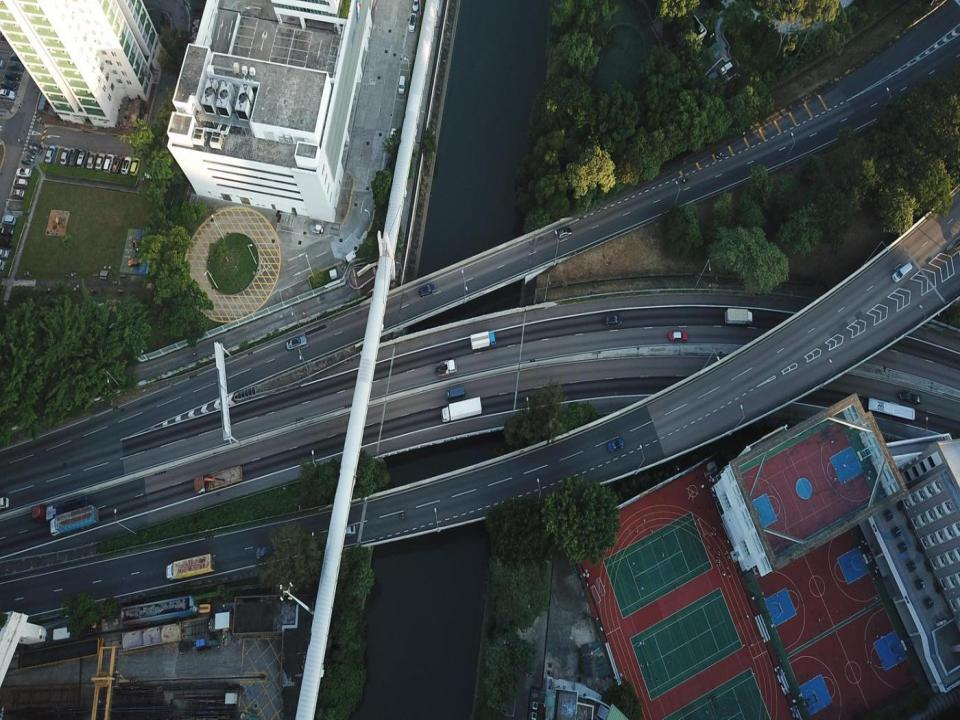bus: (868, 398, 916, 423)
car: (256, 544, 283, 560), (899, 388, 922, 405), (286, 335, 307, 350), (418, 282, 436, 297), (607, 439, 624, 453), (112, 154, 124, 173), (44, 146, 55, 165), (68, 148, 79, 167), (94, 152, 105, 171), (103, 153, 114, 172), (77, 149, 88, 167), (129, 158, 140, 176), (557, 226, 572, 239), (605, 315, 621, 327), (0, 80, 18, 90), (60, 147, 70, 165), (121, 156, 130, 175), (15, 166, 32, 176), (10, 48, 24, 60), (0, 89, 16, 99), (5, 70, 21, 80), (8, 60, 24, 70), (1, 214, 17, 224), (86, 153, 96, 169), (343, 525, 355, 538), (0, 227, 14, 238), (9, 188, 26, 197), (408, 13, 416, 32), (669, 332, 687, 340), (0, 497, 10, 509), (12, 178, 26, 186), (0, 239, 12, 248), (0, 248, 9, 257), (412, 0, 418, 12)
truck: (32, 494, 87, 524), (50, 504, 99, 536), (194, 465, 242, 495), (166, 555, 215, 583), (440, 397, 484, 422), (470, 330, 496, 350), (724, 308, 753, 324), (436, 360, 458, 376)
van: (890, 262, 912, 282), (446, 387, 465, 400), (398, 75, 406, 93)
